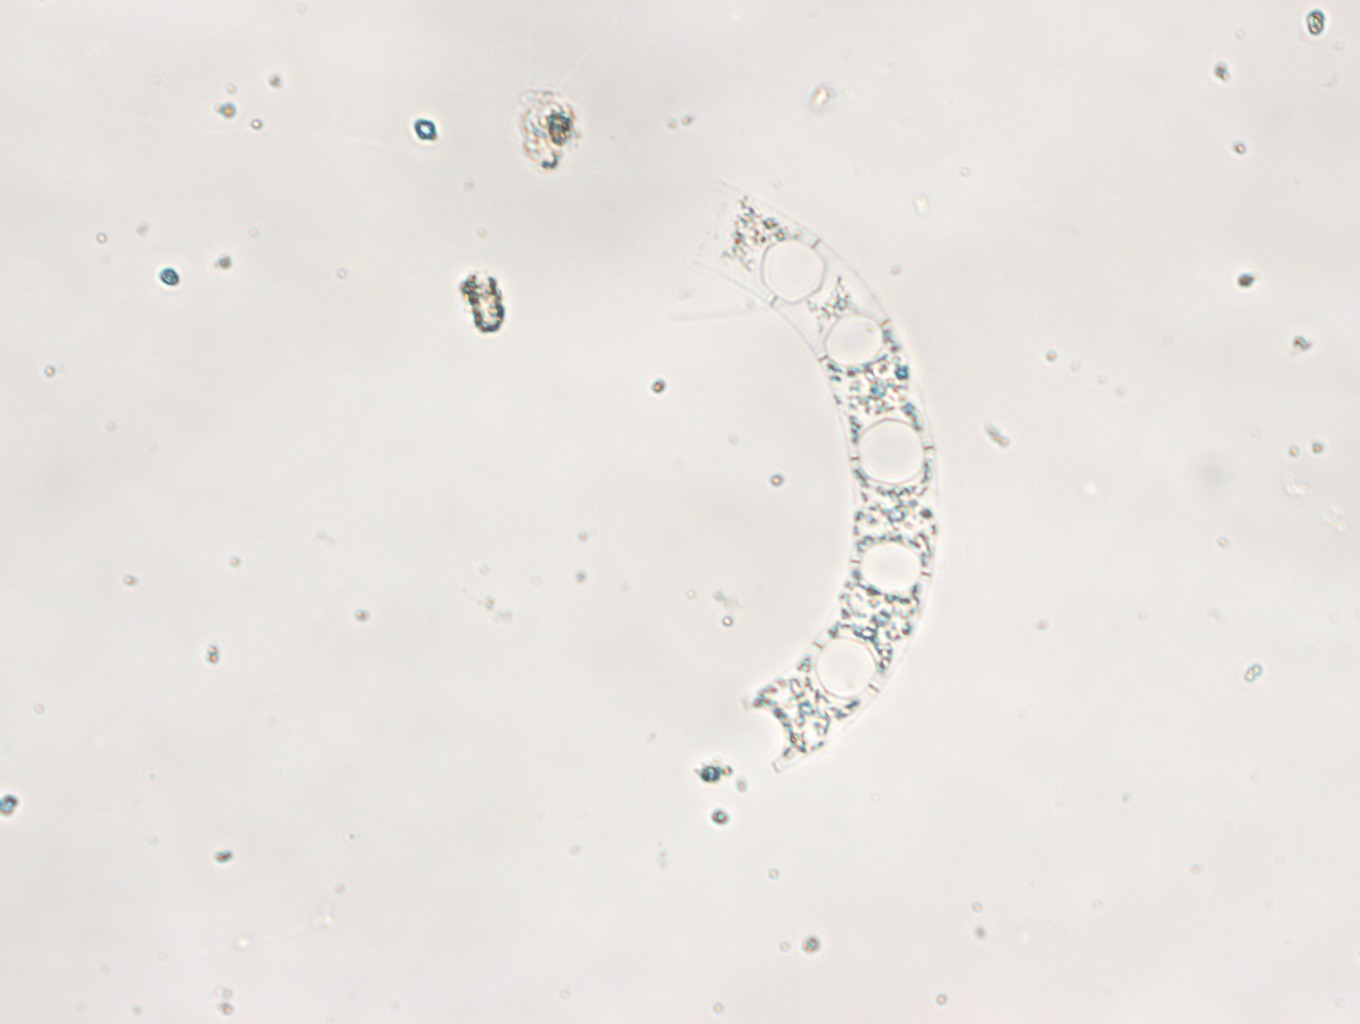eucampia: (691, 184, 939, 776)
